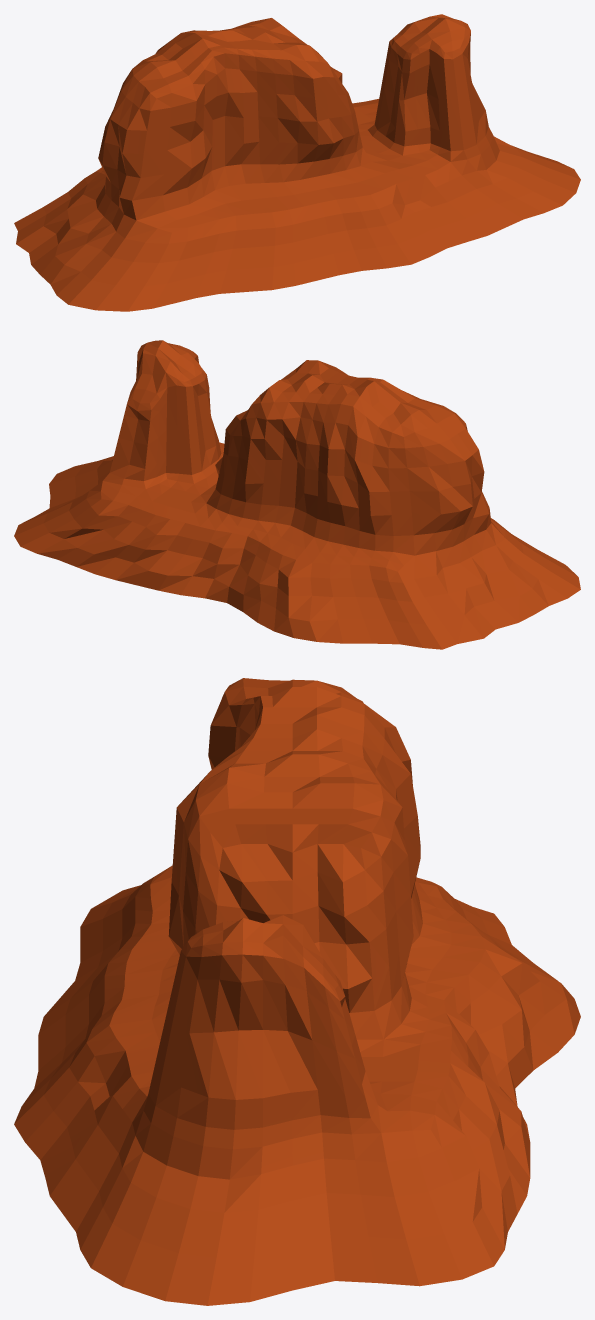
Rendered from Plateau_desert_003.glb.
3 views of the same model, one above another, from view 1: azimuth 30°, elevation 25°; view 2: azimuth 150°, elevation 25°; view 3: azimuth 270°, elevation 25° (orthographic). The views are drawn at different scales.
Parts seen in each view (by area): view 1: Plateau_desert_003; view 2: Plateau_desert_003; view 3: Plateau_desert_003.
Part boxes in pixels (<box>): Plateau_desert_003: <box>14,14,580,311</box>; Plateau_desert_003: <box>14,340,580,649</box>; Plateau_desert_003: <box>14,678,580,1305</box>.
Bounding box in the file's own units: 54.84 × 19.91 × 30.72.
